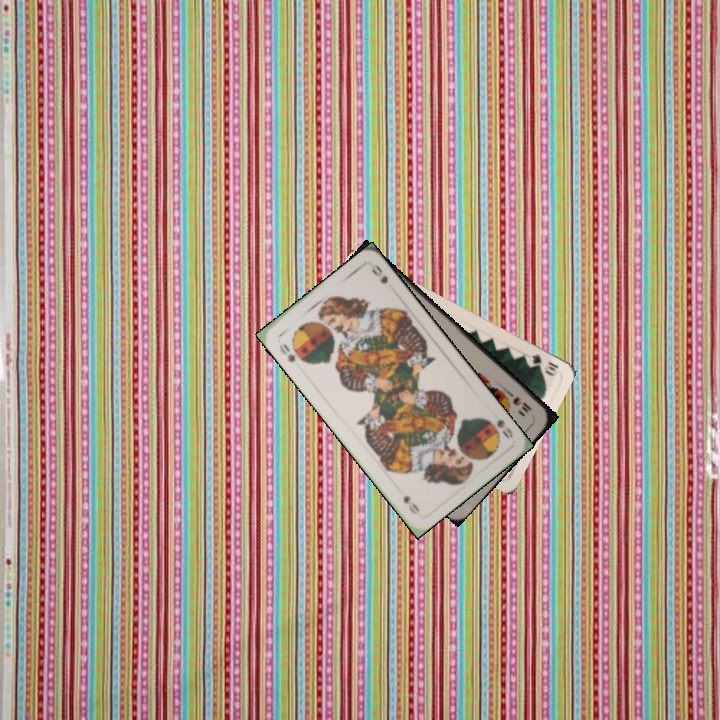G10: (528, 349, 561, 378)
S10: (503, 387, 535, 415)
SO: (481, 413, 516, 441), (275, 340, 298, 365)
